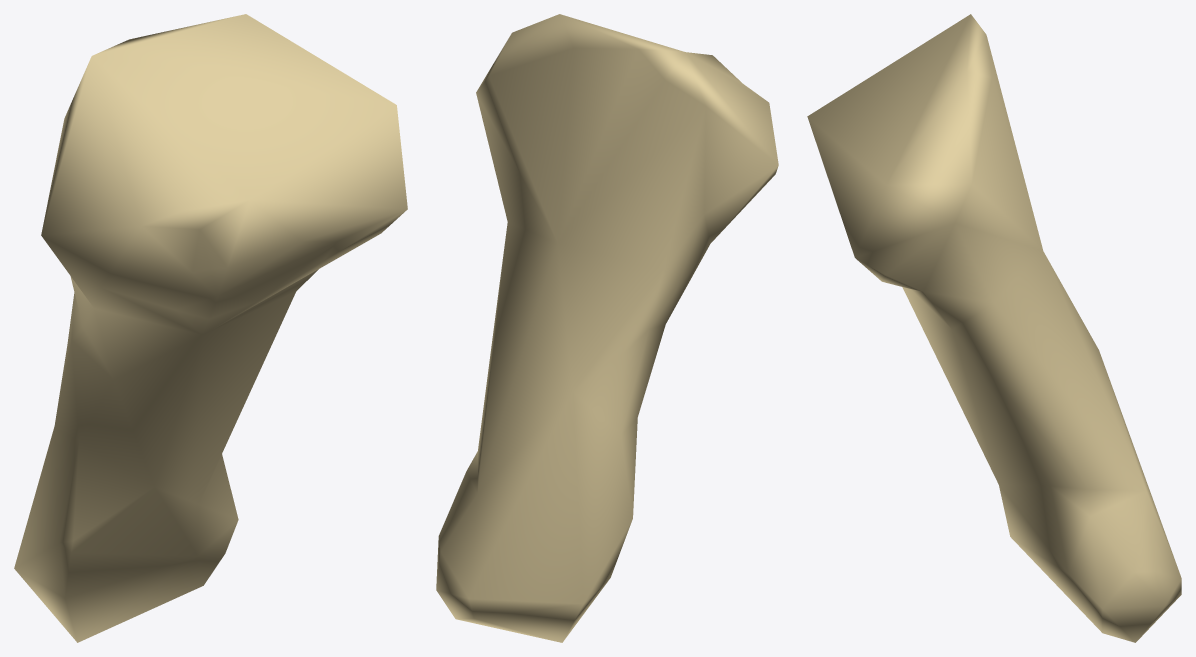
3 renders of one model, left to right at view 1: azimuth 30°, elevation 25°; view 2: azimuth 150°, elevation 25°; view 3: azimuth 270°, elevation 25°, orthographic. The views are drawn at different scales.
Parts seen in each view (by area): view 1: 左侧第四指远节指骨; view 2: 左侧第四指远节指骨; view 3: 左侧第四指远节指骨.
Boxes of the visible parts, box(x1,y1,x2,y2) form: 左侧第四指远节指骨: box(14, 14, 407, 642); 左侧第四指远节指骨: box(436, 14, 778, 642); 左侧第四指远节指骨: box(807, 14, 1181, 642).
Size of the model in its own units: 0.0127 by 0.0238 by 0.0142.
